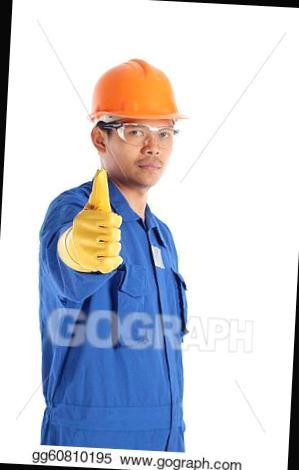helmet: (82, 53, 194, 127)
no_vest: (33, 179, 202, 434)
person: (23, 51, 215, 454)
